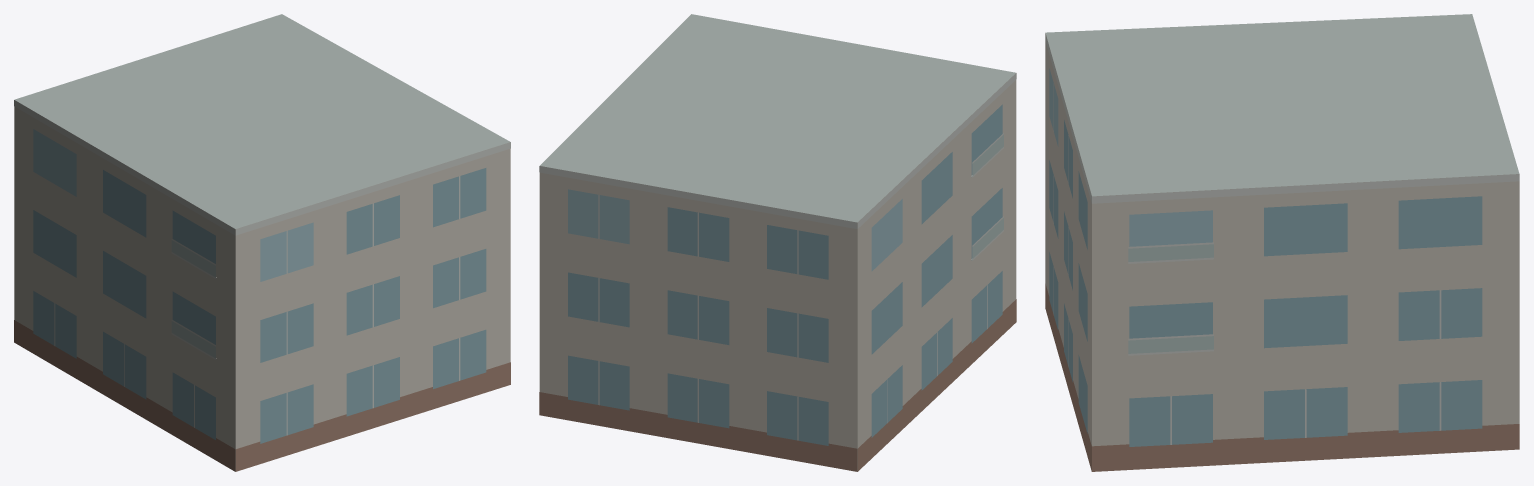
File: survey-upis-32491518.glb
3 views of the same model, side by side, from view 1: azimuth 30°, elevation 25°; view 2: azimuth 150°, elevation 25°; view 3: azimuth 270°, elevation 25° (orthographic). The views are drawn at different scales.
Visible parts, largest first — view 1: survey-upis-32491518.tmp; view 2: survey-upis-32491518.tmp; view 3: survey-upis-32491518.tmp.
Part boxes in pixels (x1=…): survey-upis-32491518.tmp: x1=14, y1=14, x2=510, y2=471; survey-upis-32491518.tmp: x1=539, y1=14, x2=1016, y2=471; survey-upis-32491518.tmp: x1=1045, y1=14, x2=1519, y2=471.
Bounding box in the file's own units: 12.93 × 9.1 × 14.2.
